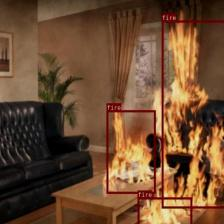fire: (161, 20, 224, 208), (106, 110, 156, 193), (138, 197, 192, 224)
